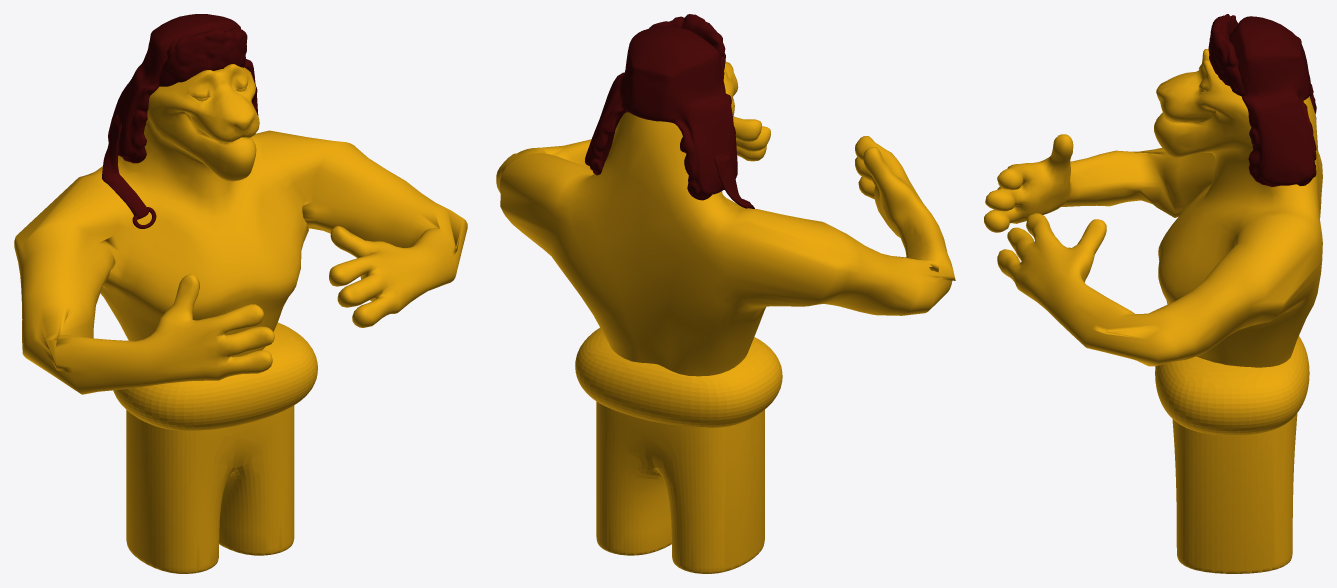
File: cat face.fbx
3 renders of one model, left to right at view 1: azimuth 30°, elevation 25°; view 2: azimuth 150°, elevation 25°; view 3: azimuth 270°, elevation 25°, orthographic.
Visible parts, largest first — view 1: Cube.022; view 2: Cube.022; view 3: Cube.022.
Boxes of the visible parts, x1,y1,x2,y2 form: Cube.022: [14, 14, 467, 573]; Cube.022: [496, 14, 955, 573]; Cube.022: [984, 14, 1322, 573].
Bounding box in the file's own units: 340 × 386 × 229.
